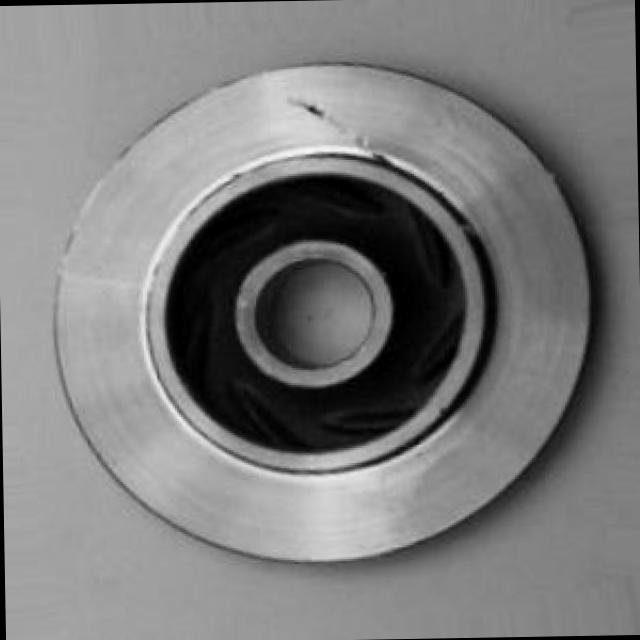Defect: (270, 79, 452, 178)
